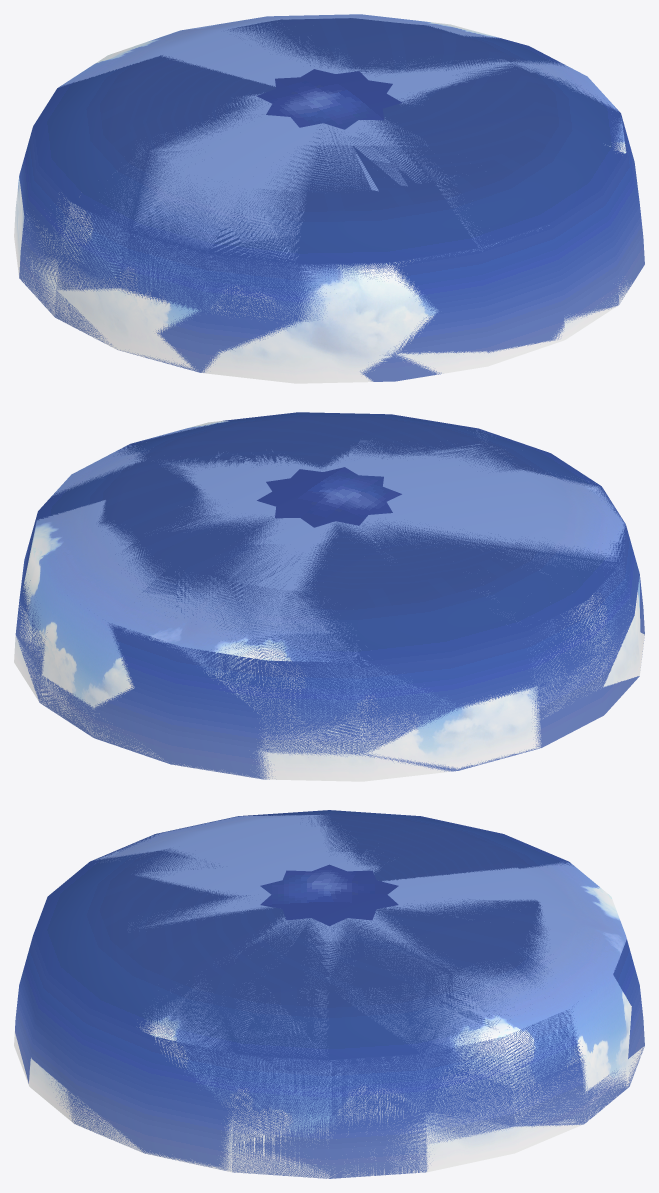
The model's file is stage-palm-sky.glb.
The picture shows the model from 3 angles, top to bottom: view 1: azimuth 30°, elevation 25°; view 2: azimuth 150°, elevation 25°; view 3: azimuth 270°, elevation 25°; orthographic projection.
Parts seen in each view (by area): view 1: sky; view 2: sky; view 3: sky.
Boxes of the visible parts, <box> form: sky: <box>14,14,644,383</box>; sky: <box>14,412,644,781</box>; sky: <box>14,810,644,1178</box>.
Size of the model in its own units: 3605 by 976 by 3605.
4 materials, 4 textured.
